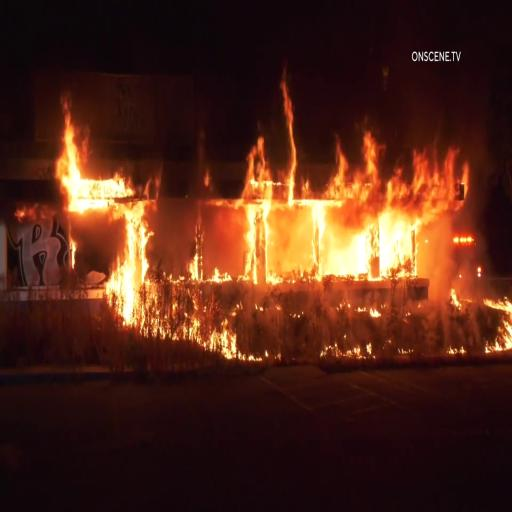fire: (51, 88, 150, 319), (331, 141, 469, 281), (278, 83, 334, 280), (239, 134, 278, 287)
